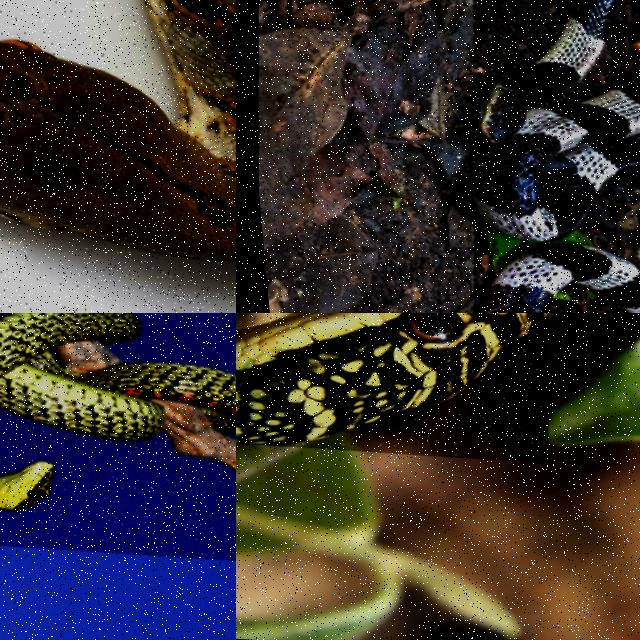Bungarus candidus: (472, 0, 639, 241)
Chrysopelea ornata: (236, 313, 545, 445), (0, 313, 235, 440)
Malayopython reticulatus: (0, 0, 235, 259)
snake: (0, 0, 235, 259), (236, 313, 545, 445), (472, 0, 639, 241), (0, 313, 235, 440)
